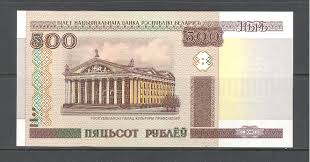belarus_ruble_500: (17, 11, 291, 147)
